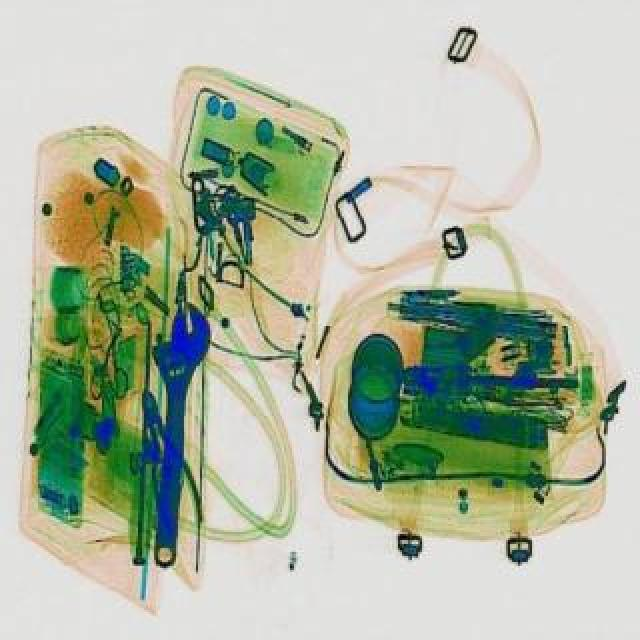scissors: (138, 304, 216, 572)
wrench: (128, 388, 210, 536)
